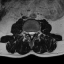CCS_normal: (30, 29, 32, 40)
LFS_normal: (35, 29, 37, 35)
LLS_normal: (32, 29, 35, 36)
RFS_normal: (26, 28, 28, 36)
RLS_normal: (28, 29, 30, 36)
